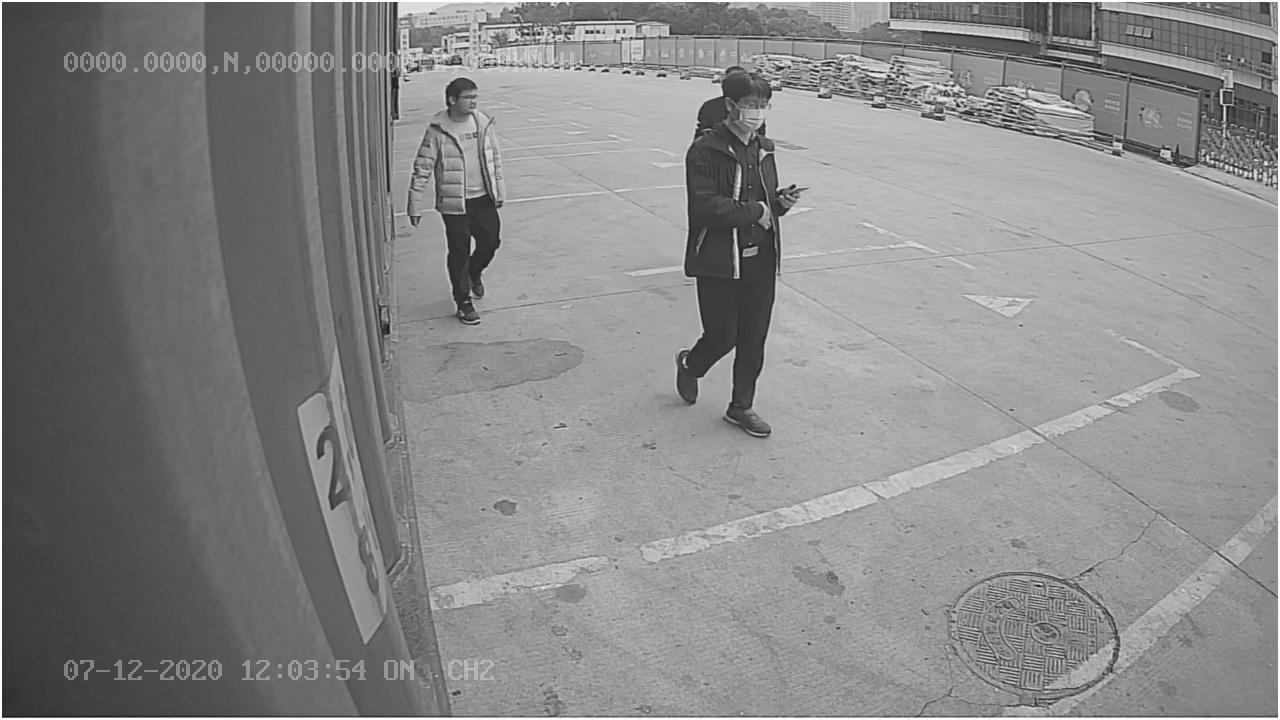person: (409, 73, 515, 330)
